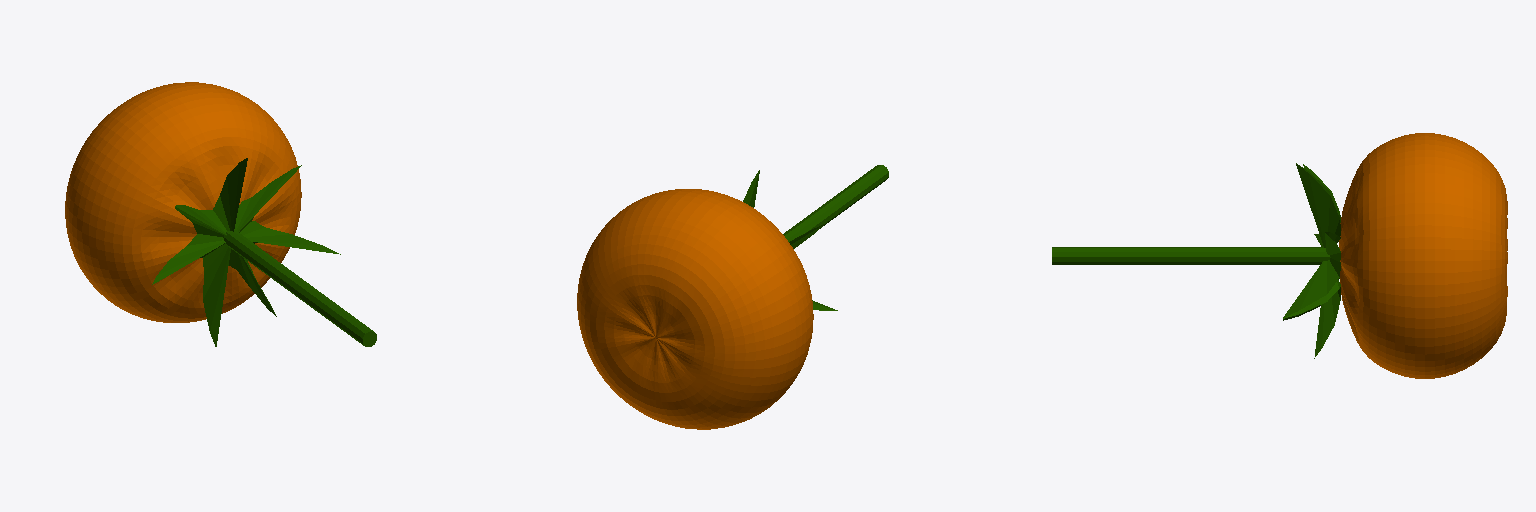
The model's file is yellow_tomato.obj.
The picture shows the model from 3 angles: view 1: azimuth 30°, elevation 25°; view 2: azimuth 150°, elevation 25°; view 3: azimuth 270°, elevation 25°; orthographic projection.
Visible parts, largest first — view 1: yelow_tomato.002_Cylinder.013; view 2: yelow_tomato.002_Cylinder.013; view 3: yelow_tomato.002_Cylinder.013.
Boxes of the visible parts, x1,y1,x2,y2 form: yelow_tomato.002_Cylinder.013: [65, 82, 376, 346]; yelow_tomato.002_Cylinder.013: [577, 165, 888, 429]; yelow_tomato.002_Cylinder.013: [1052, 133, 1507, 378].
Bounding box in the file's own units: 0.045 × 0.045 × 0.0833.